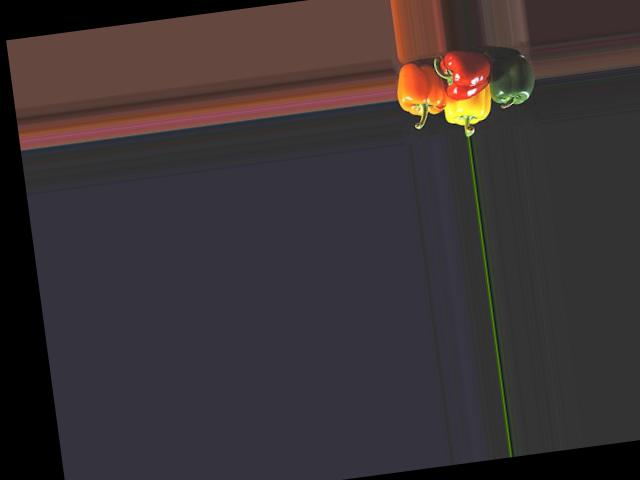bell_pepper: (392, 50, 450, 125)
